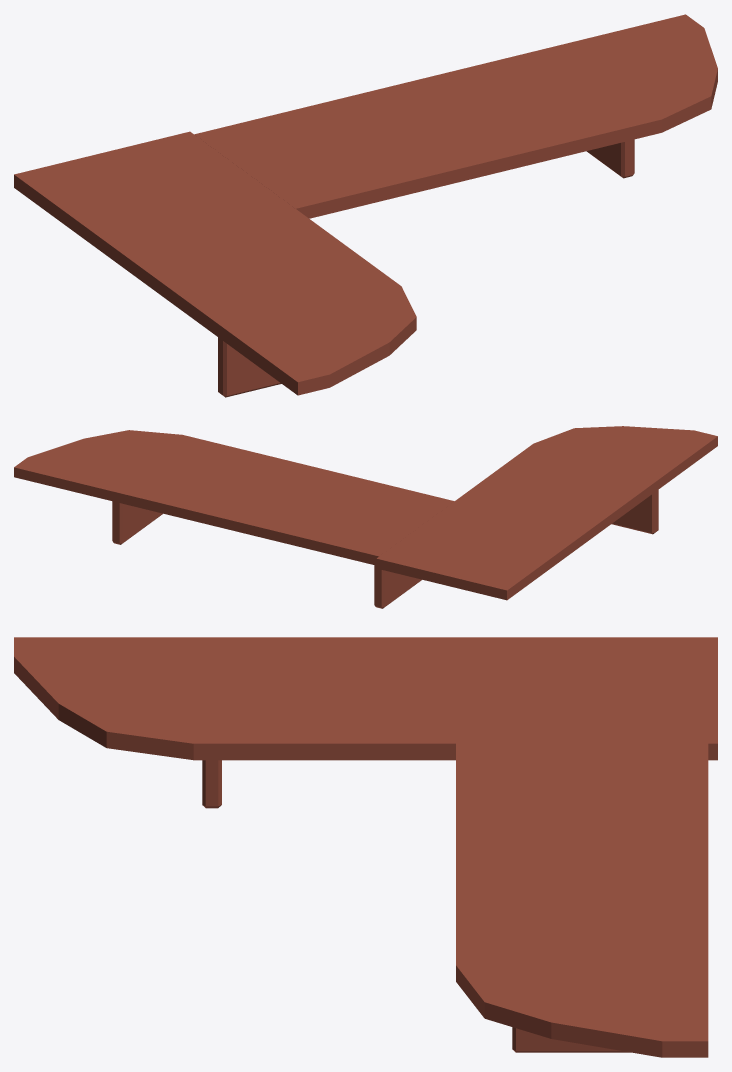
Rendered from weapons_talbe.fbx.
The picture shows the model from 3 angles, top to bottom: view 1: azimuth 30°, elevation 25°; view 2: azimuth 150°, elevation 25°; view 3: azimuth 270°, elevation 25°; orthographic projection. The views are drawn at different scales.
Visible parts, largest first — view 1: Cube.025; view 2: Cube.025; view 3: Cube.025.
Part boxes in pixels (bbox=[...]): Cube.025: bbox=[14, 14, 717, 397]; Cube.025: bbox=[14, 426, 717, 608]; Cube.025: bbox=[14, 637, 717, 1057].
Size of the model in its own units: 607 by 63.45 by 447.
